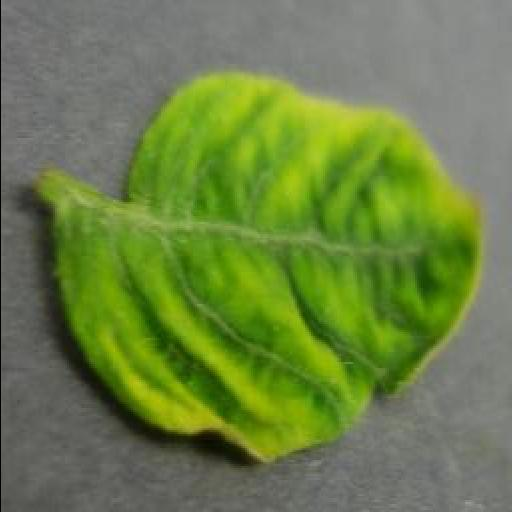disease_tomato: (52, 71, 482, 464)
